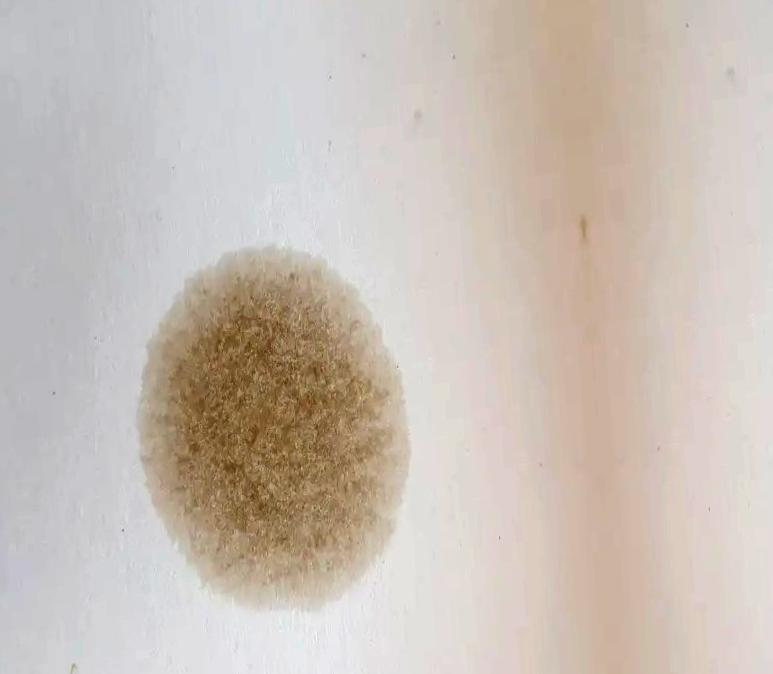stain: (124, 237, 416, 623)
